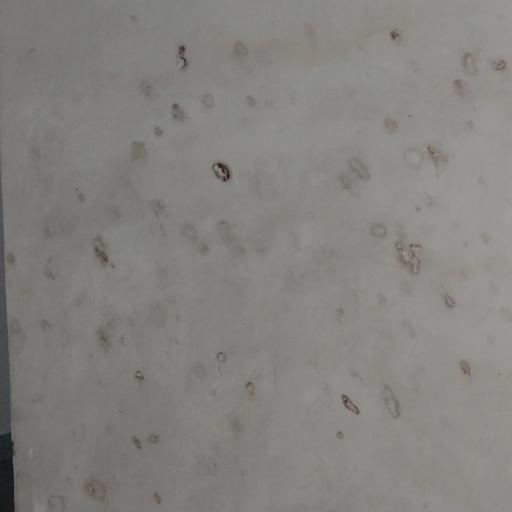stain: (78, 39, 512, 511)
